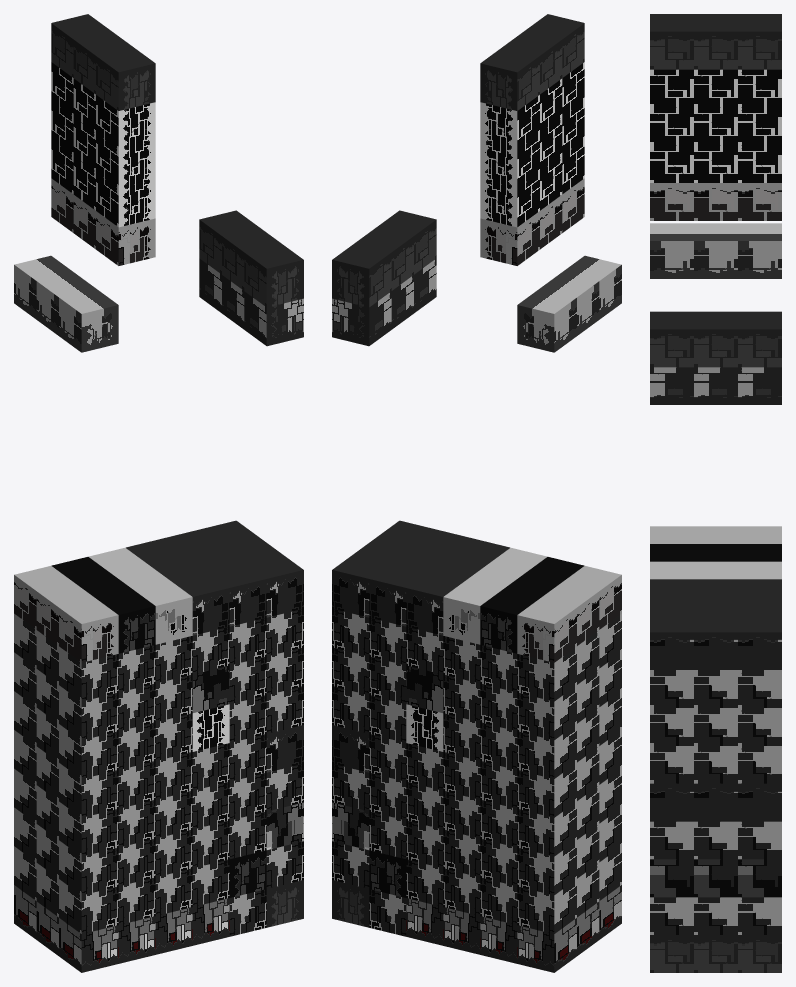
File: Luna4Limbo11Solo.glb
3 renders of one model, left to right at view 1: azimuth 30°, elevation 25°; view 2: azimuth 150°, elevation 25°; view 3: azimuth 270°, elevation 25°, orthographic. The views are drawn at different scales.
Parts seen in each view (by area): view 1: Setor_2; view 2: Setor_2; view 3: Setor_2.
Boxes of the visible parts, x1,y1,x2,y2 form: Setor_2: [14, 14, 303, 972]; Setor_2: [332, 14, 621, 972]; Setor_2: [650, 14, 781, 972].
Size of the model in its own units: 6.24 by 23.92 by 3.28.
Materials: 1 (1 with a texture image).
